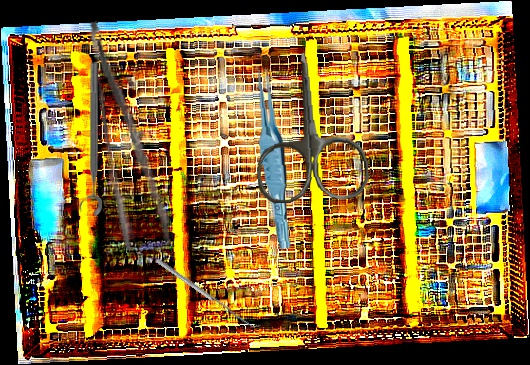Dressing Forceps: (84, 14, 175, 252)
Fixation Ring: (78, 62, 102, 216)
Iris Scissors: (248, 49, 371, 205)
Spatula Surgical: (155, 254, 262, 333)
Tissue Forceps: (255, 61, 292, 250)
